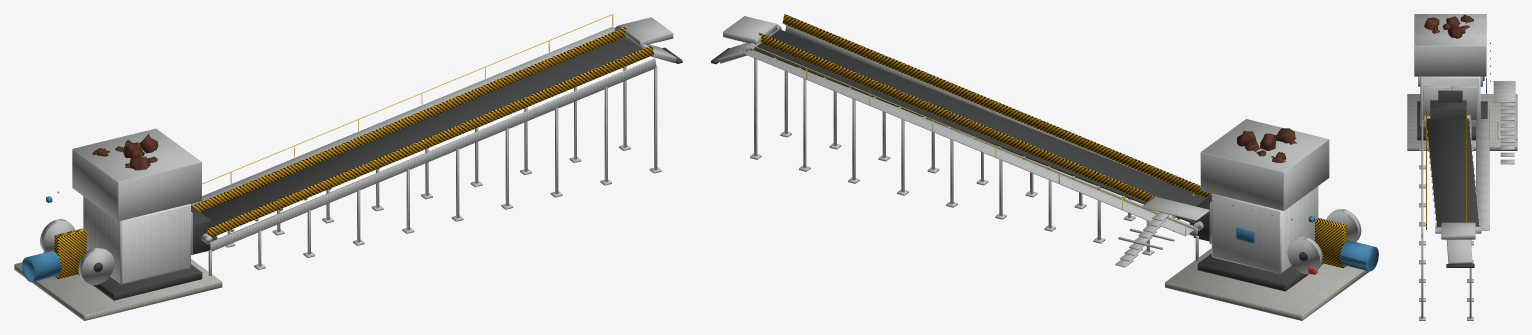
File: Level2_OreCrusher_IndustrialUV_v4.fbx
3 views of the same model, side by side, from view 1: azimuth 30°, elevation 25°; view 2: azimuth 150°, elevation 25°; view 3: azimuth 270°, elevation 25° (orthographic). The views are drawn at different scales.
Parts seen in each view (by area): view 1: L2_V2_Wide_Inclined_Rubber_Ore_Belt, L2_V2_SuperJumbo_Flared_Ore_Hopper, L2_V2_Rounded_Primary_Crusher_Body, L2_V2_Right_Tall_Yellow_Side_Skirt, L2_V2_Right_Deep_Main_Truss, L2_V2_Left_Tall_Yellow_Side_Skirt, L2_V2_Jumbo_Concrete_Service_Pad, L2_V2_Wide_Maint_Catwalk, L2_V2_Jumbo_Black_Skid_Base, L2_V2_Curved_Style_Hazard_Belt_Guard, L2_V2_Jumbo_Flywheel_B_Smooth, L2_V2_Discharge_Hood_Cover (+4 smaller); view 2: L2_V2_Wide_Inclined_Rubber_Ore_Belt, L2_V2_SuperJumbo_Flared_Ore_Hopper, L2_V2_Rounded_Primary_Crusher_Body, L2_V2_Jumbo_Concrete_Service_Pad, L2_V2_Right_Tall_Yellow_Side_Skirt, L2_V2_Wide_Maint_Catwalk, L2_V2_Left_Tall_Yellow_Side_Skirt, L2_V2_Jumbo_Black_Skid_Base, L2_V2_Right_Deep_Main_Truss, L2_V2_Curved_Style_Hazard_Belt_Guard, L2_V2_Discharge_Hood_Cover, L2_V2_Jumbo_Flywheel_A_Smooth (+5 smaller); view 3: L2_V2_Wide_Inclined_Rubber_Ore_Belt, L2_V2_SuperJumbo_Flared_Ore_Hopper, L2_V2_Jumbo_Concrete_Service_Pad, L2_V2_Wide_Maint_Catwalk, L2_V2_Rounded_Primary_Crusher_Body, L2_V2_Crusher_Discharge_BlackBox, L2_V2_Discharge_Hood_Cover, L2_V2_Heavy_Discharge_Chute_To_Tank, L2_V2_Jumbo_Service_Platform_Grating, L2_V2_Left_Smooth_Jaw_Liner, L2_V2_Jumbo_Black_Skid_Base, L2_V2_Right_Smooth_Jaw_Liner (+12 smaller).
Boxes of the visible parts, x1=… form: L2_V2_Wide_Inclined_Rubber_Ore_Belt: x1=200, y1=31, x2=640, y2=237; L2_V2_SuperJumbo_Flared_Ore_Hopper: x1=72, y1=128, x2=201, y2=221; L2_V2_Rounded_Primary_Crusher_Body: x1=83, y1=196, x2=190, y2=284; L2_V2_Right_Tall_Yellow_Side_Skirt: x1=207, y1=45, x2=653, y2=237; L2_V2_Right_Deep_Main_Truss: x1=209, y1=58, x2=656, y2=251; L2_V2_Left_Tall_Yellow_Side_Skirt: x1=192, y1=26, x2=627, y2=211; L2_V2_Jumbo_Concrete_Service_Pad: x1=14, y1=259, x2=222, y2=320; L2_V2_Wide_Maint_Catwalk: x1=190, y1=26, x2=614, y2=205; L2_V2_Jumbo_Black_Skid_Base: x1=78, y1=264, x2=202, y2=300; L2_V2_Curved_Style_Hazard_Belt_Guard: x1=54, y1=228, x2=86, y2=278; L2_V2_Jumbo_Flywheel_B_Smooth: x1=78, y1=247, x2=114, y2=284; L2_V2_Discharge_Hood_Cover: x1=618, y1=17, x2=673, y2=46; L2_V2_Wide_Inclined_Rubber_Ore_Belt: x1=753, y1=29, x2=1206, y2=223; L2_V2_SuperJumbo_Flared_Ore_Hopper: x1=1200, y1=119, x2=1329, y2=210; L2_V2_Rounded_Primary_Crusher_Body: x1=1211, y1=186, x2=1318, y2=273; L2_V2_Jumbo_Concrete_Service_Pad: x1=1165, y1=248, x2=1369, y2=320; L2_V2_Right_Tall_Yellow_Side_Skirt: x1=782, y1=14, x2=1211, y2=197; L2_V2_Wide_Maint_Catwalk: x1=744, y1=50, x2=1193, y2=236; L2_V2_Left_Tall_Yellow_Side_Skirt: x1=758, y1=32, x2=1199, y2=222; L2_V2_Jumbo_Black_Skid_Base: x1=1197, y1=253, x2=1322, y2=291; L2_V2_Right_Deep_Main_Truss: x1=785, y1=25, x2=1164, y2=181; L2_V2_Curved_Style_Hazard_Belt_Guard: x1=1315, y1=218, x2=1346, y2=268; L2_V2_Discharge_Hood_Cover: x1=723, y1=16, x2=777, y2=44; L2_V2_Jumbo_Flywheel_A_Smooth: x1=1287, y1=236, x2=1323, y2=274; L2_V2_Wide_Inclined_Rubber_Ore_Belt: x1=1427, y1=118, x2=1479, y2=226; L2_V2_SuperJumbo_Flared_Ore_Hopper: x1=1414, y1=14, x2=1486, y2=76; L2_V2_Jumbo_Concrete_Service_Pad: x1=1407, y1=94, x2=1517, y2=150; L2_V2_Wide_Maint_Catwalk: x1=1476, y1=119, x2=1488, y2=230; L2_V2_Rounded_Primary_Crusher_Body: x1=1420, y1=76, x2=1480, y2=127; L2_V2_Crusher_Discharge_BlackBox: x1=1430, y1=100, x2=1466, y2=119; L2_V2_Discharge_Hood_Cover: x1=1441, y1=222, x2=1475, y2=239; L2_V2_Heavy_Discharge_Chute_To_Tank: x1=1446, y1=239, x2=1472, y2=263; L2_V2_Jumbo_Service_Platform_Grating: x1=1493, y1=81, x2=1515, y2=102; L2_V2_Left_Smooth_Jaw_Liner: x1=1451, y1=86, x2=1477, y2=119; L2_V2_Jumbo_Black_Skid_Base: x1=1417, y1=101, x2=1487, y2=140; L2_V2_Right_Smooth_Jaw_Liner: x1=1423, y1=86, x2=1449, y2=119.
Size of the model in its own units: 58.85 by 12.16 by 11.
Materials: 10 (10 with a texture image).
